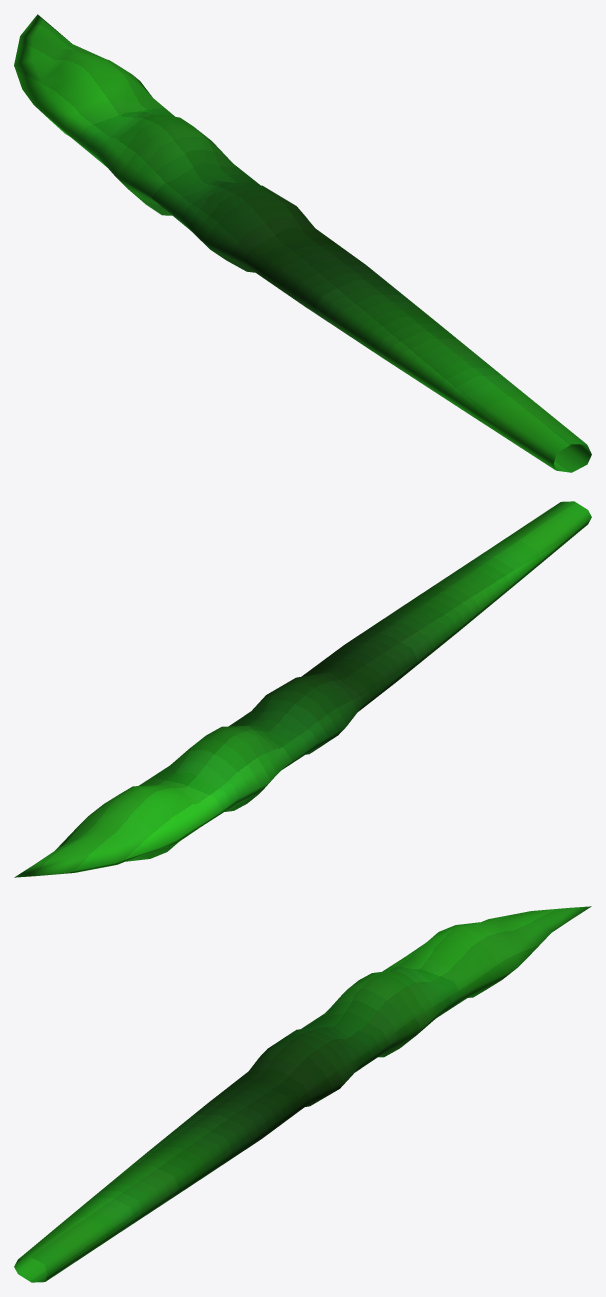
Rendered from kmd_zunda_sword_zunda_sword_efx.glb.
3 renders of one model, top to bottom at view 1: azimuth 30°, elevation 25°; view 2: azimuth 150°, elevation 25°; view 3: azimuth 330°, elevation 25°, orthographic. The views are drawn at different scales.
Bounding box in the file's own units: 0.124 × 0.0872 × 1.08.
Materials: 1 (1 with a texture image).
